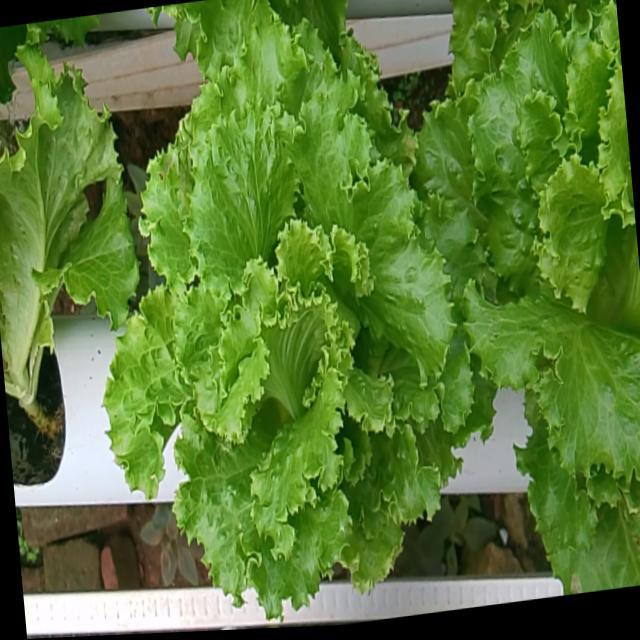Mature: (115, 35, 483, 628), (425, 23, 640, 499)
